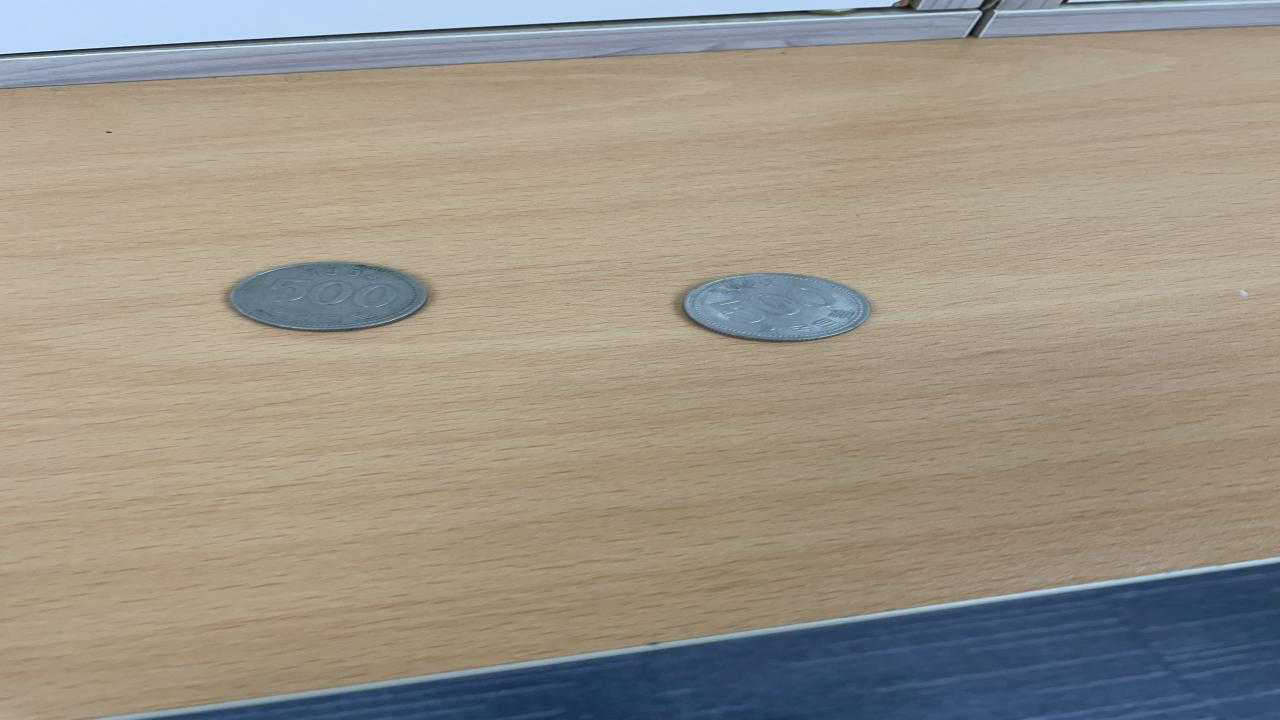coin: (226, 261, 430, 333), (680, 270, 876, 342)
